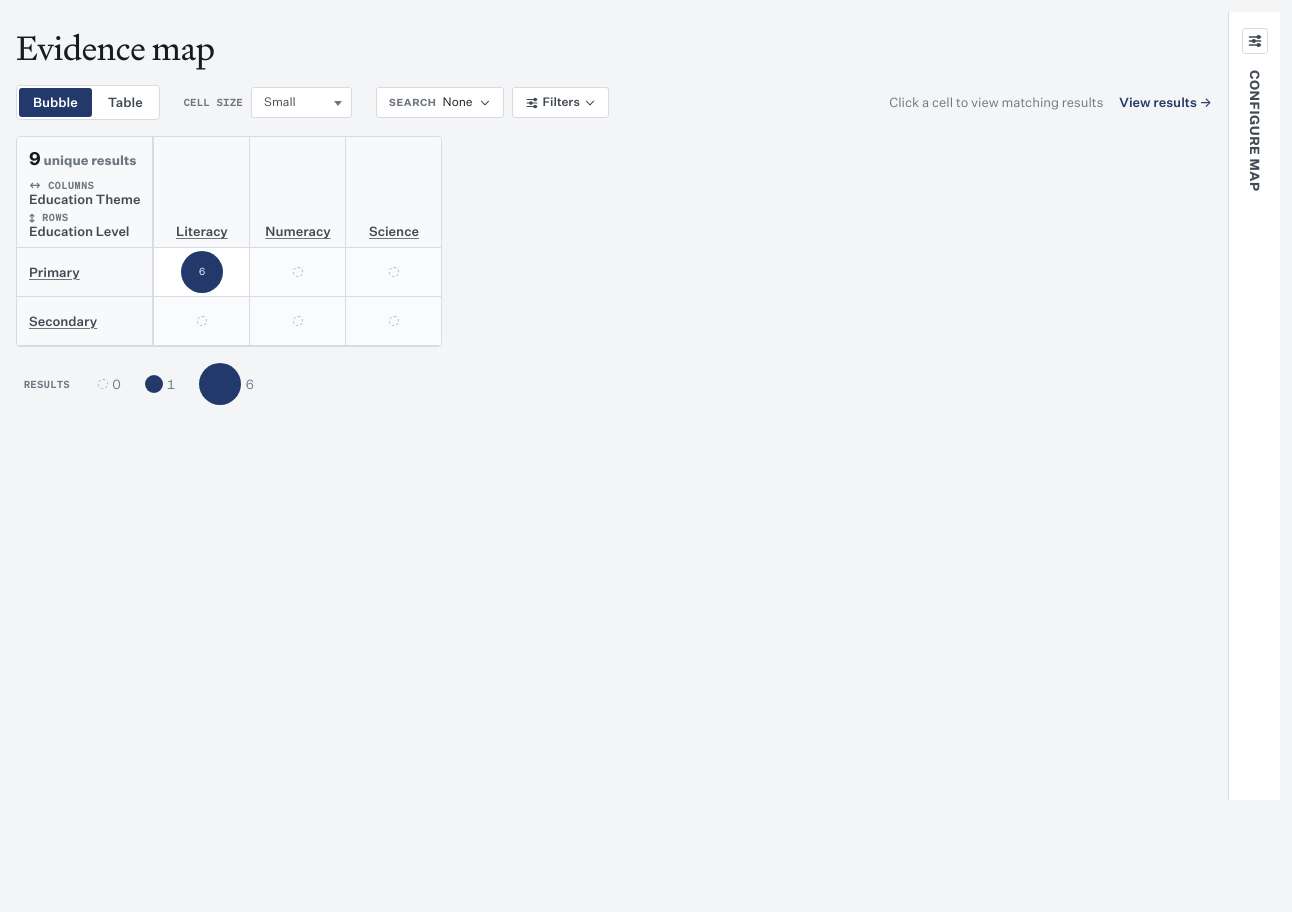
it: VisualisePage on small screens › Configure in panel opens the folded panel at its filters
Click the button "Filters" at [560, 102], box [512, 87, 609, 118]
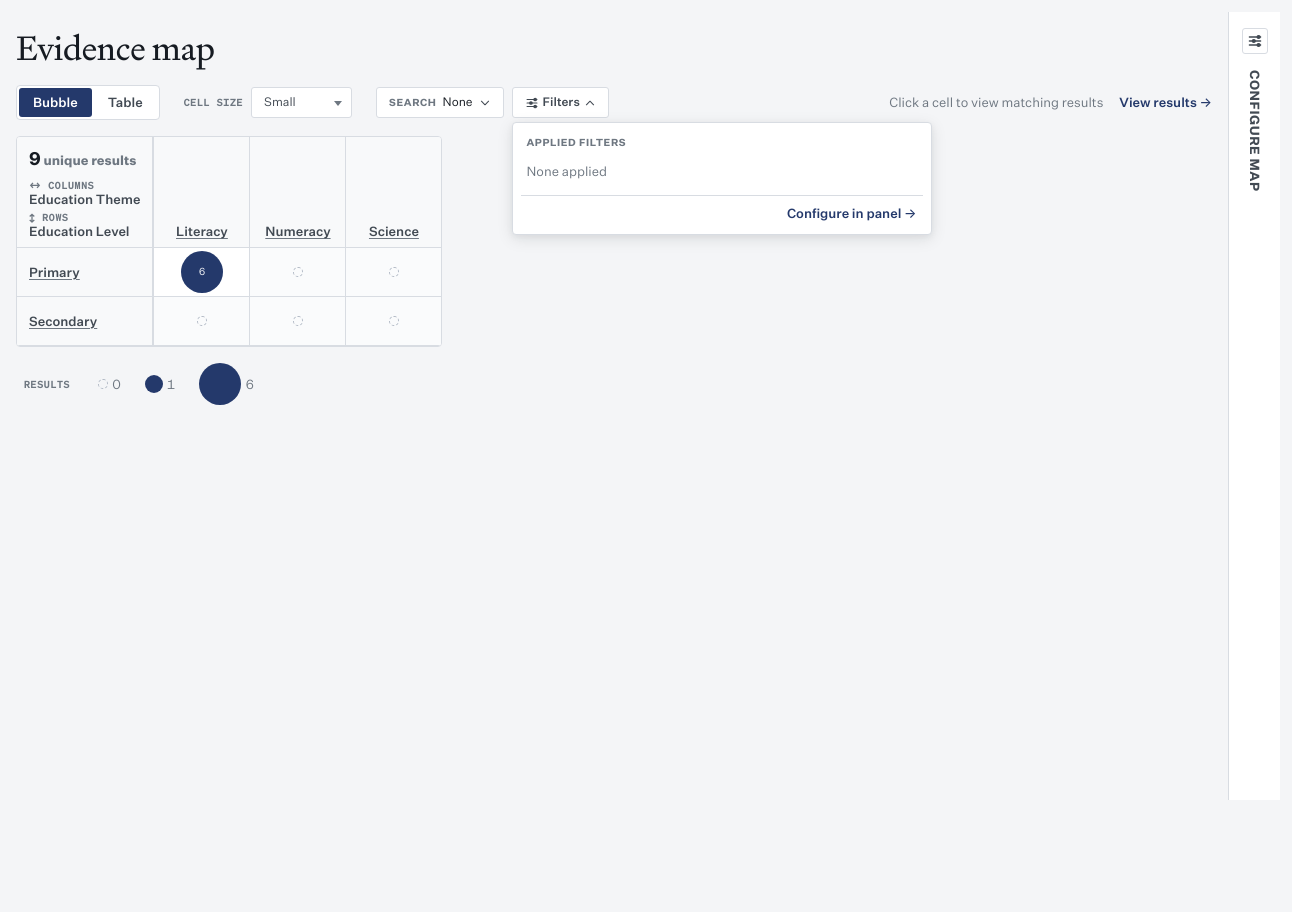
Click the button "Configure in panel →" at [852, 214], box [787, 204, 916, 224]
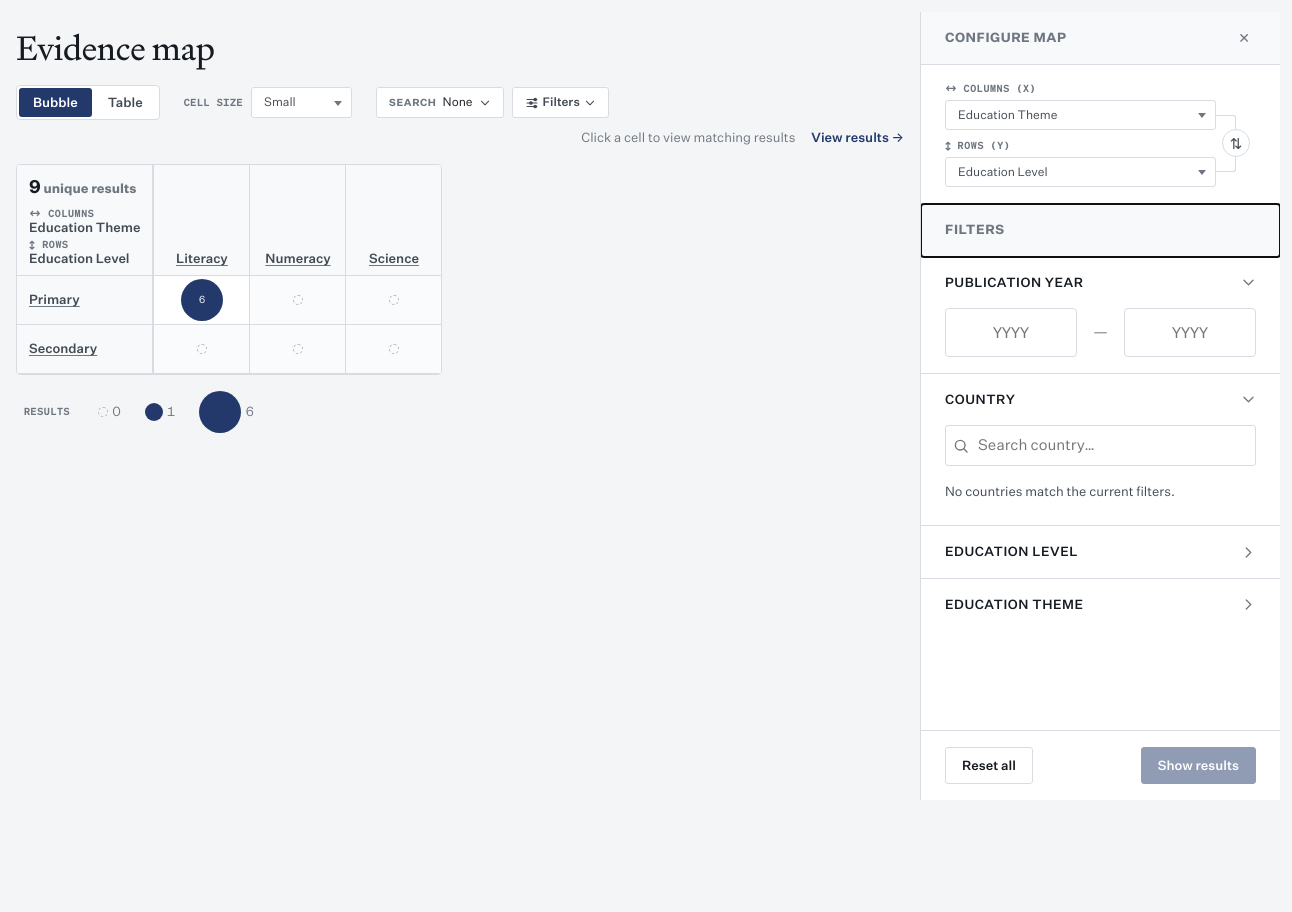
Now the button "Show results" is shown, box [1141, 746, 1256, 784]
